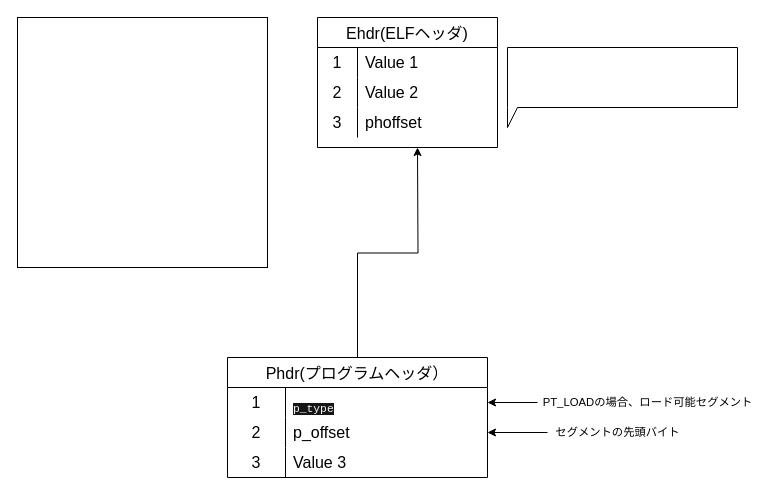
The diagram is 775 pixels wide and 495 high, and some of its shapes have lost their labels. The shapes that lost their labels are listed below. From the top down, each one's centre as x and y in pixels, then its label:
At pixel 622 87: "プログラムヘッダへのオフセット".
At pixel 142 142: "kernel.elf".
